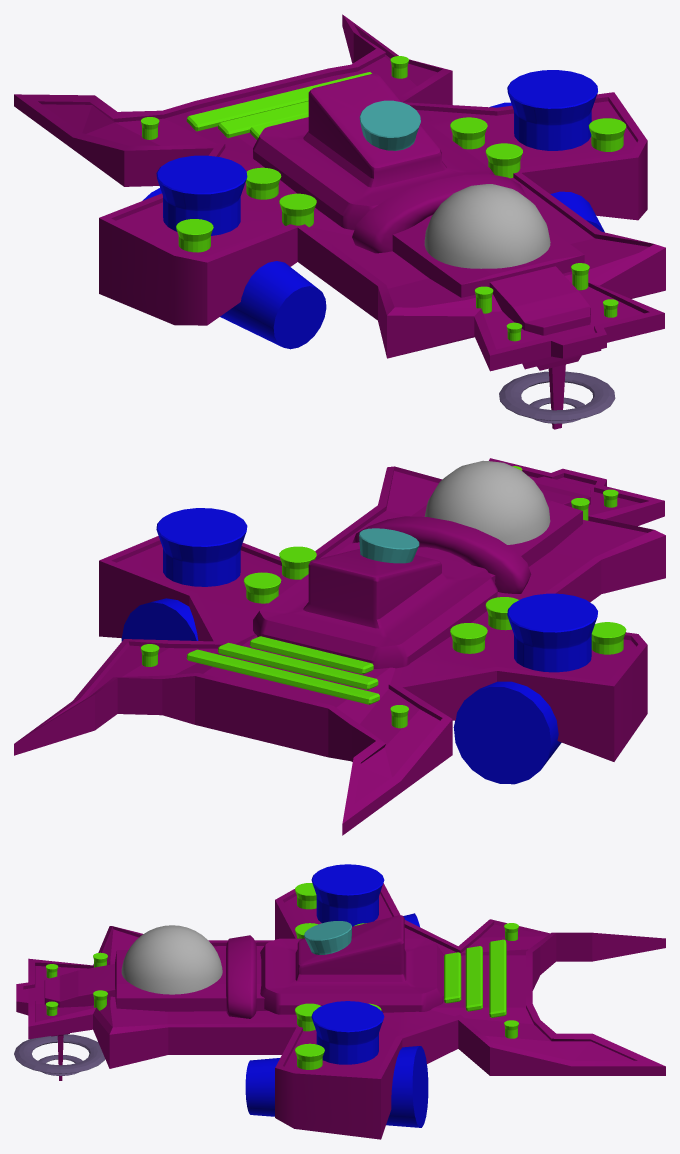
File: SPACESHIP.fbx
The picture shows the model from 3 angles, top to bottom: view 1: azimuth 30°, elevation 25°; view 2: azimuth 150°, elevation 25°; view 3: azimuth 270°, elevation 25°; orthographic projection. The views are drawn at different scales.
Parts seen in each view (by area): view 1: polySurface11; view 2: polySurface11; view 3: polySurface11.
Boxes of the visible parts, x1,y1,x2,y2 form: polySurface11: (14,14,665,429); polySurface11: (14,458,665,835); polySurface11: (14,864,665,1139).
Bounding box in the file's own units: 1049 × 374 × 1439.
